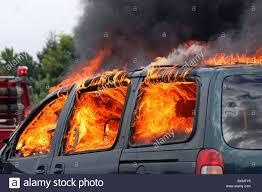fire: (29, 45, 199, 153)
